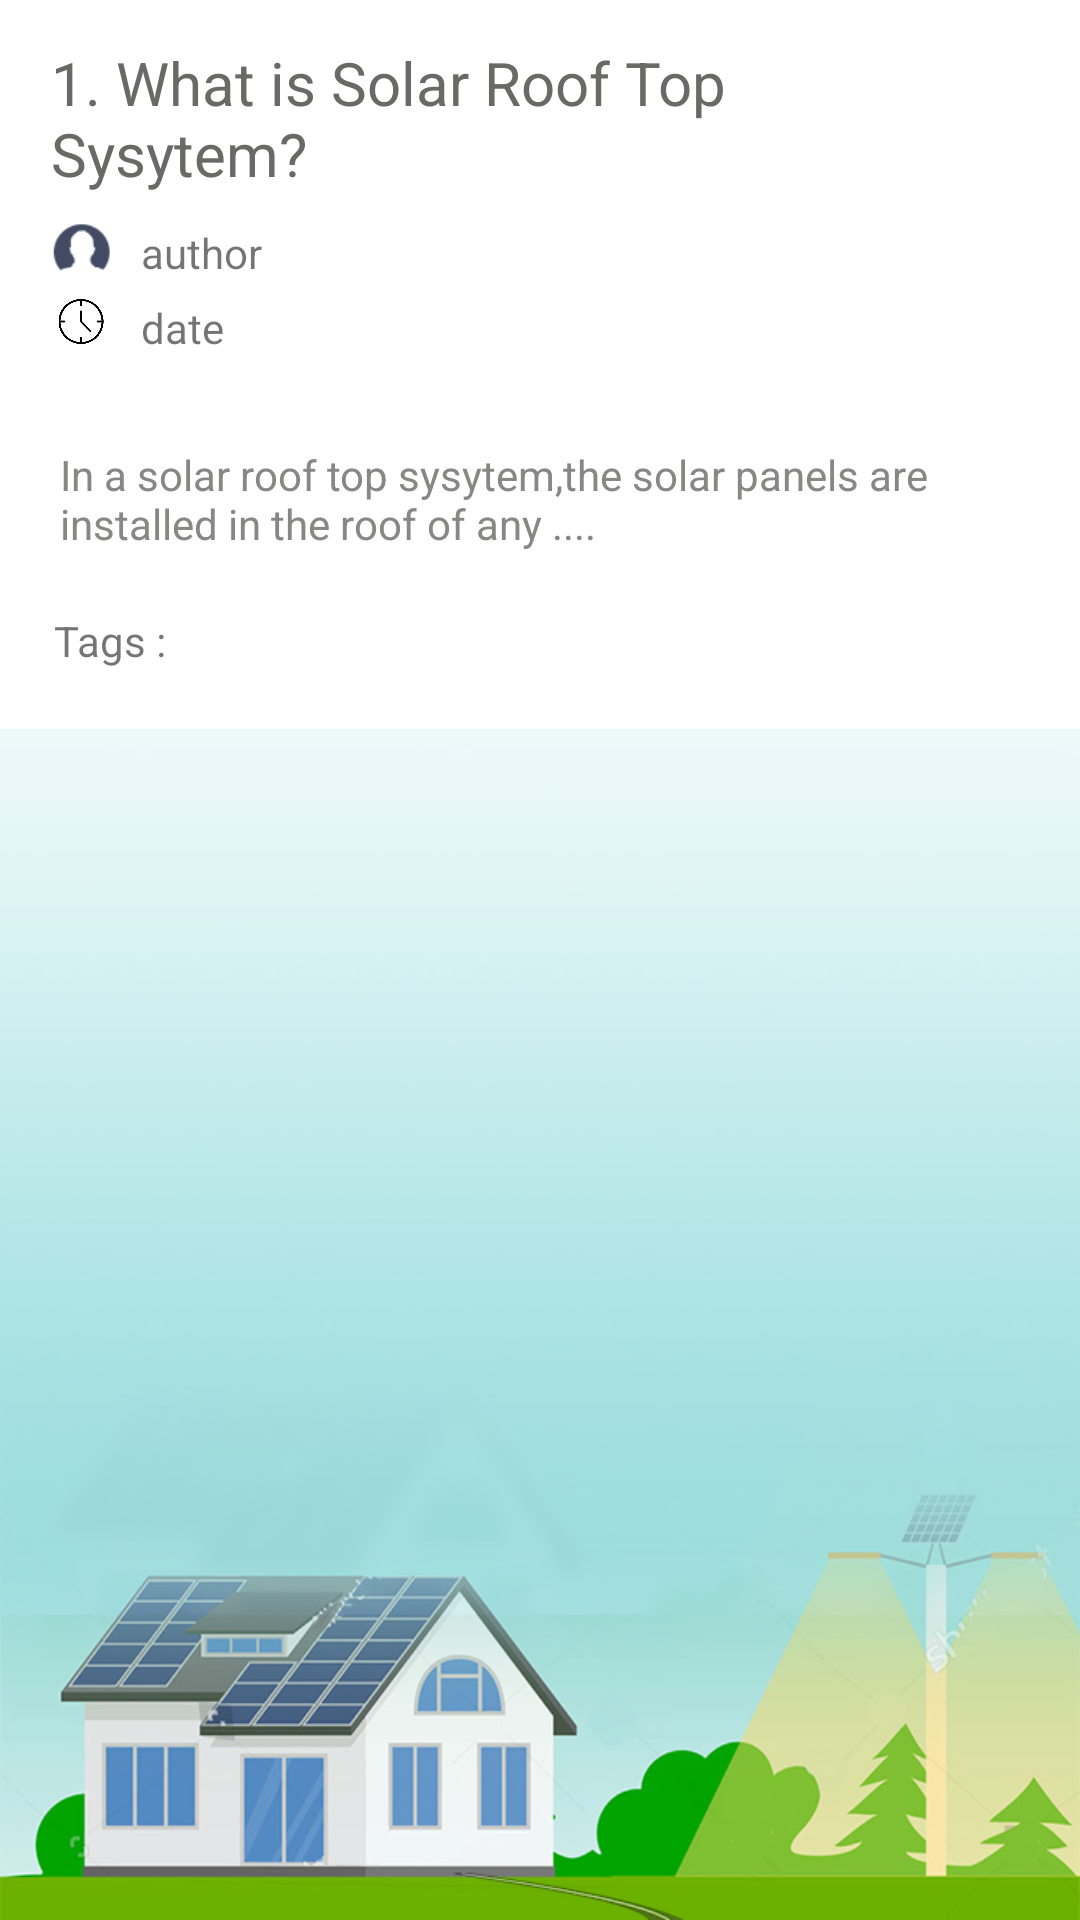

Icon click points for this 1080px×1920px phone screenshot, format (x,y):
clock: (81,321)
iconprofile: (81,247)
